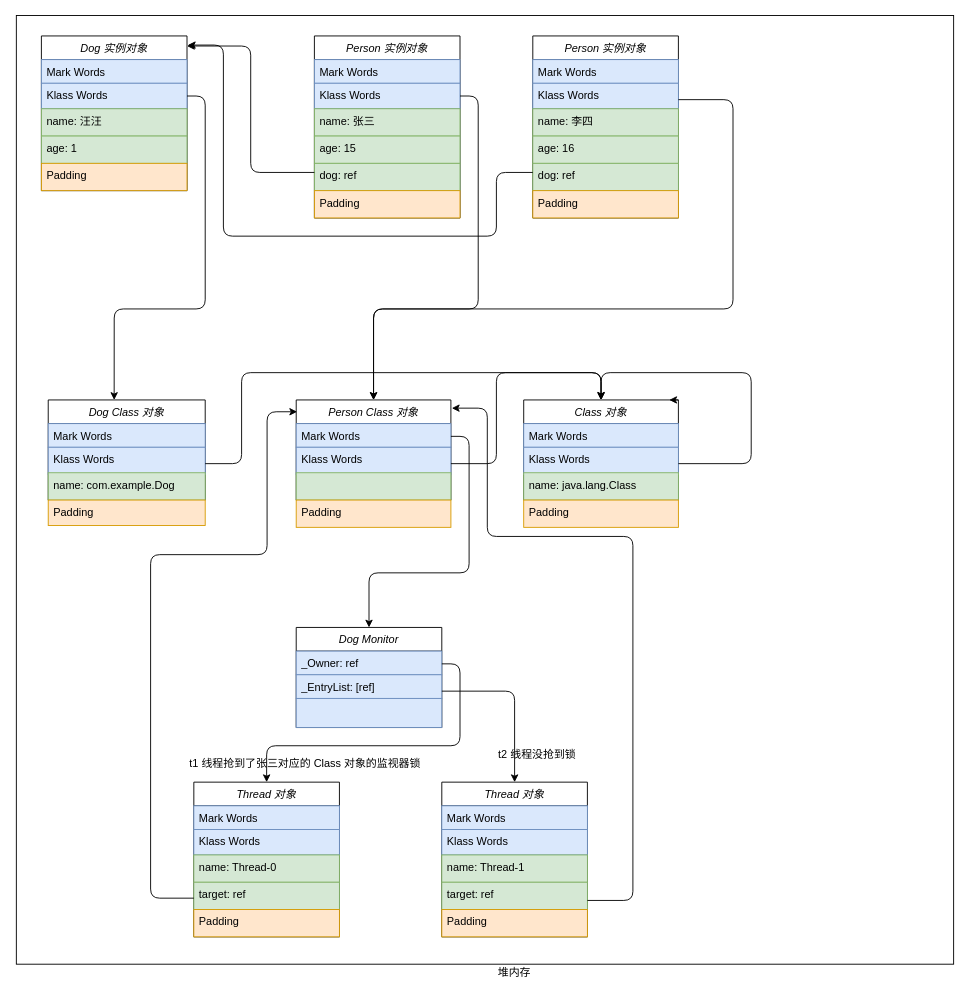
Some shapes in this 969 by 998 pixel diagram are drawn without their labels. The centre of each missing label's shape, as x and y in pixels:
"_WaitSet" belongs at point (368, 713).
"name: com.example.Person" belongs at point (373, 486).
